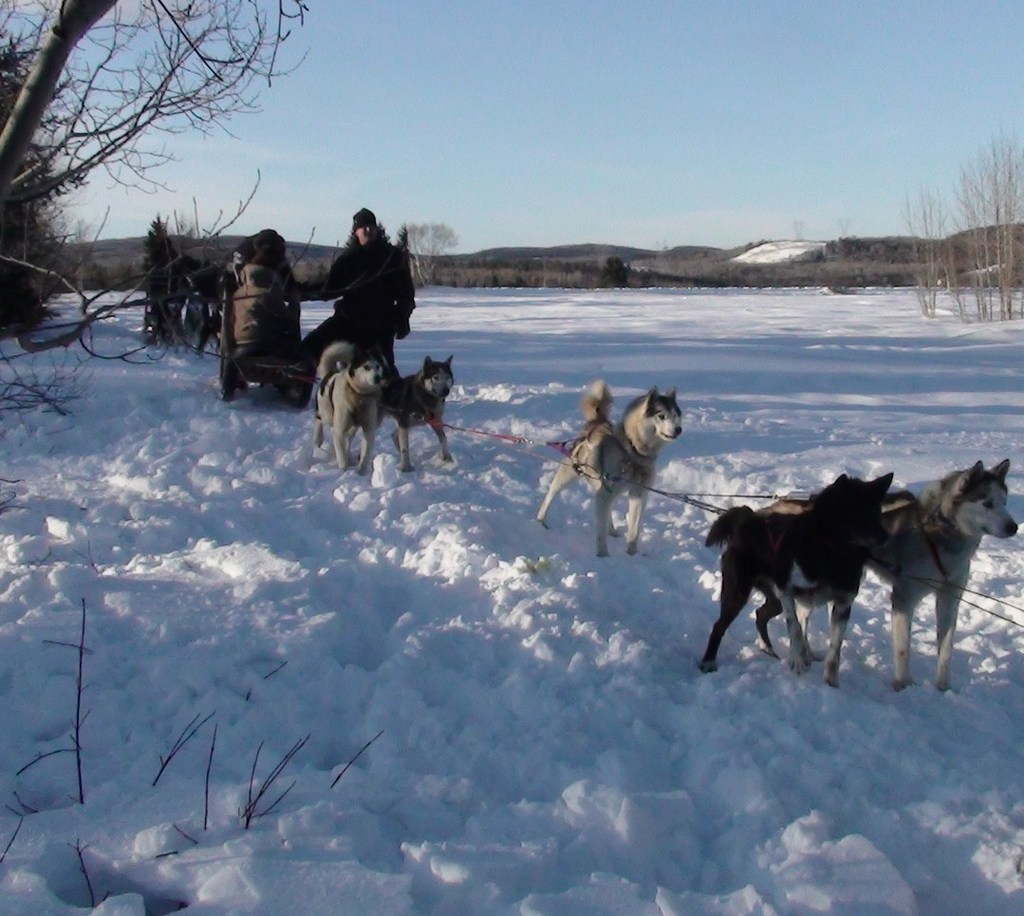Person: (298, 208, 415, 366)
